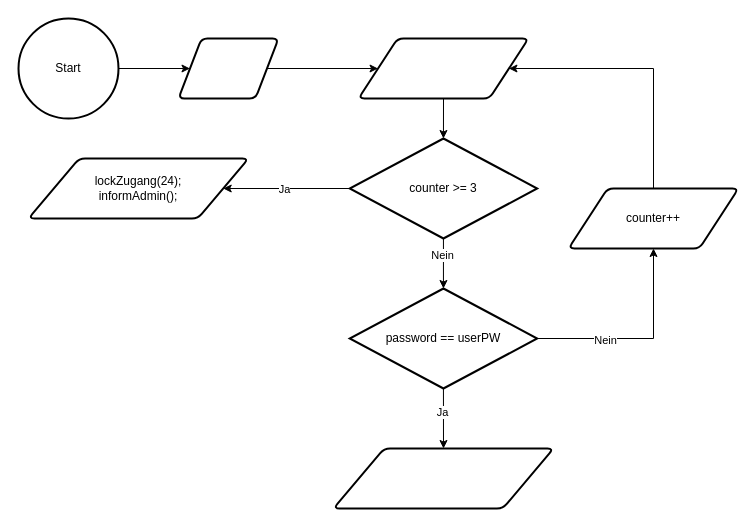
The diagram is 756 pixels wide and 526 high, and some of its shapes have lost their labels. The box of each missing label's shape, as (x1, y1, x2, y2) in pixels:
closeForm(); successLogin();: (332, 447, 554, 509)
counter = 0: (177, 37, 279, 99)
Eingabe: password: (357, 37, 529, 99)
